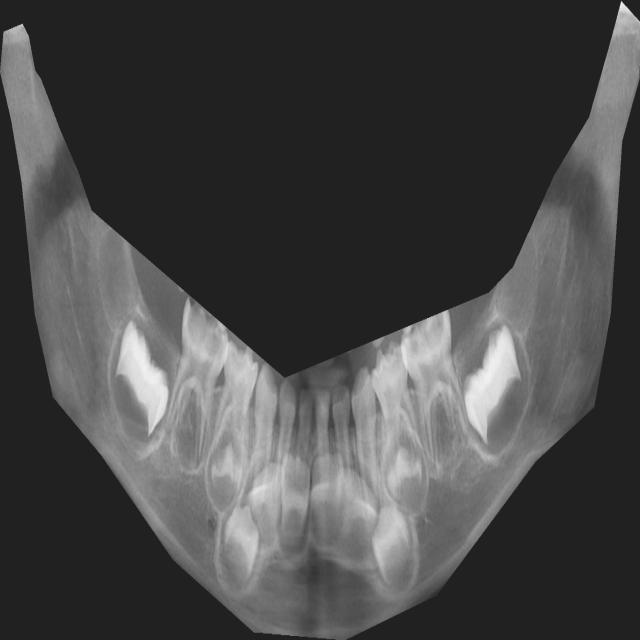mandibula: (0, 1, 640, 640)
